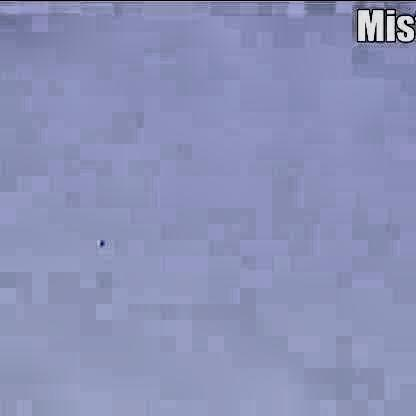golfball: (93, 236, 104, 246)
